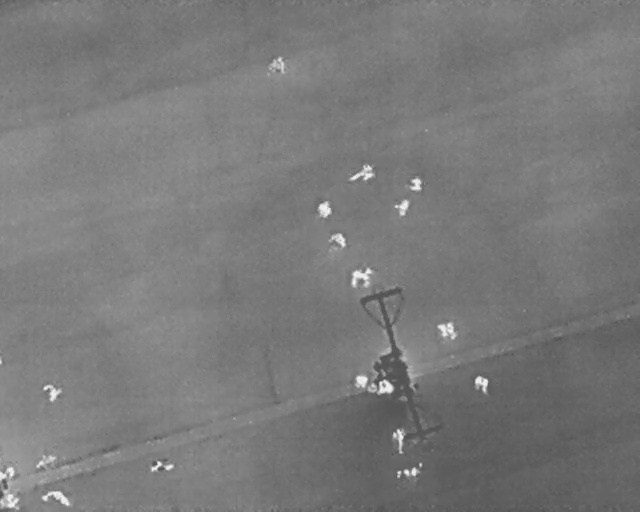Person: (343, 160, 379, 188), (42, 490, 72, 507), (350, 267, 374, 288), (391, 424, 406, 455), (392, 195, 413, 217), (437, 320, 458, 341), (149, 458, 177, 472), (267, 54, 285, 75), (315, 199, 333, 220), (43, 382, 61, 403), (327, 232, 347, 250), (473, 375, 488, 396), (1, 494, 20, 510), (378, 379, 394, 396), (0, 465, 15, 480), (409, 176, 423, 192), (354, 373, 368, 388)
